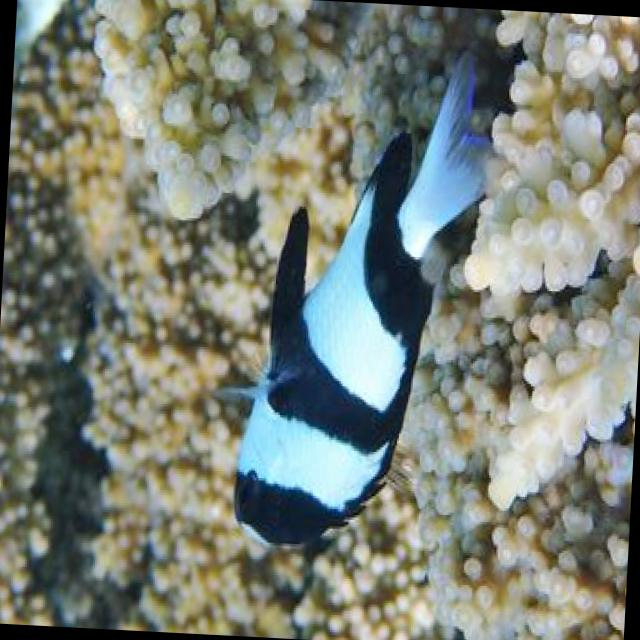ThreeStripedDamselfish: (233, 44, 491, 549)
